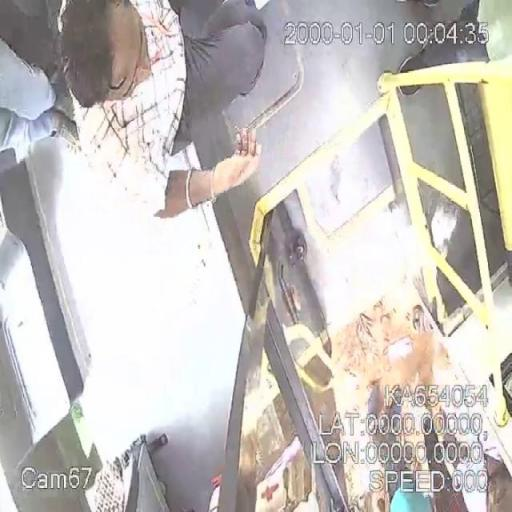persona: (58, 0, 266, 222)
